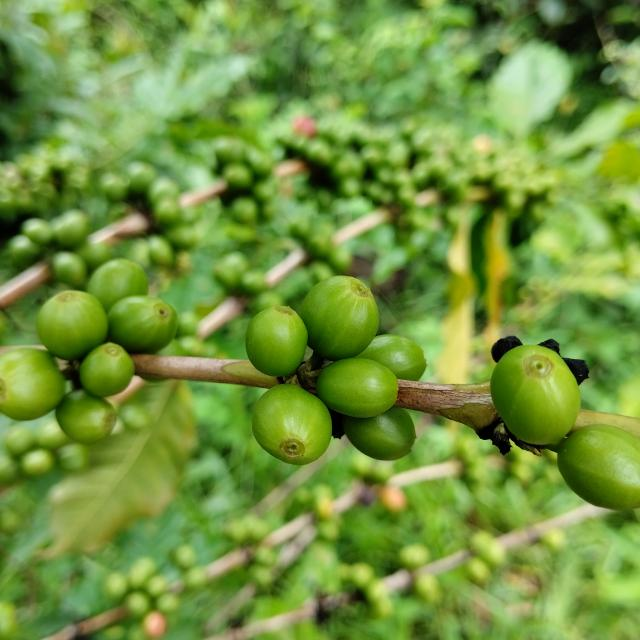green: (491, 345, 581, 446), (558, 425, 640, 511), (299, 276, 379, 361), (252, 384, 332, 466), (35, 290, 107, 361), (316, 358, 399, 418), (0, 348, 64, 421), (245, 305, 308, 377), (107, 296, 178, 354), (342, 407, 416, 461), (55, 390, 116, 444), (86, 259, 148, 312), (356, 335, 427, 381), (79, 342, 134, 397)
